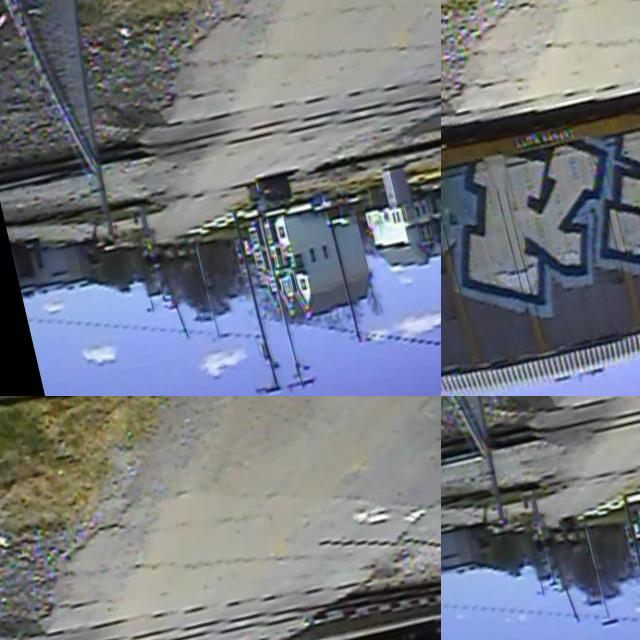barrier: (546, 560, 593, 640), (154, 264, 196, 349)
barrier-closed: (298, 579, 441, 640)
car: (243, 162, 304, 226), (558, 510, 582, 540)
rails: (0, 22, 441, 216), (3, 71, 441, 265), (0, 546, 441, 640), (441, 396, 640, 552), (441, 396, 640, 510)
traffic-signal: (520, 485, 560, 557), (130, 196, 167, 273)
train: (441, 40, 640, 396)
